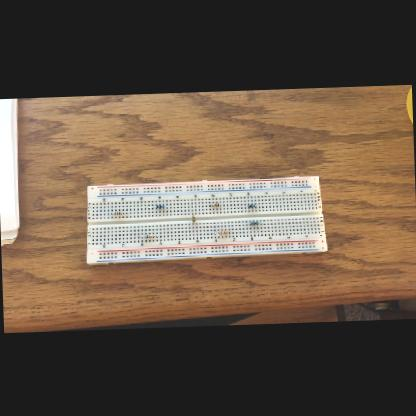breadboard: (84, 174, 329, 264)
resistor: (114, 210, 124, 214), (144, 234, 154, 238), (220, 230, 228, 234), (156, 204, 166, 207), (250, 221, 259, 224), (193, 214, 196, 223), (248, 204, 256, 207), (211, 204, 219, 206)
wire: (214, 229, 220, 234), (150, 206, 157, 209), (239, 205, 247, 207), (256, 204, 264, 206), (138, 236, 144, 238), (165, 206, 171, 208), (124, 211, 128, 213), (154, 234, 158, 236), (229, 228, 231, 231), (259, 221, 262, 223), (192, 209, 194, 212), (220, 202, 222, 204), (246, 223, 250, 224), (193, 224, 194, 228), (209, 203, 211, 205), (112, 213, 114, 214)
